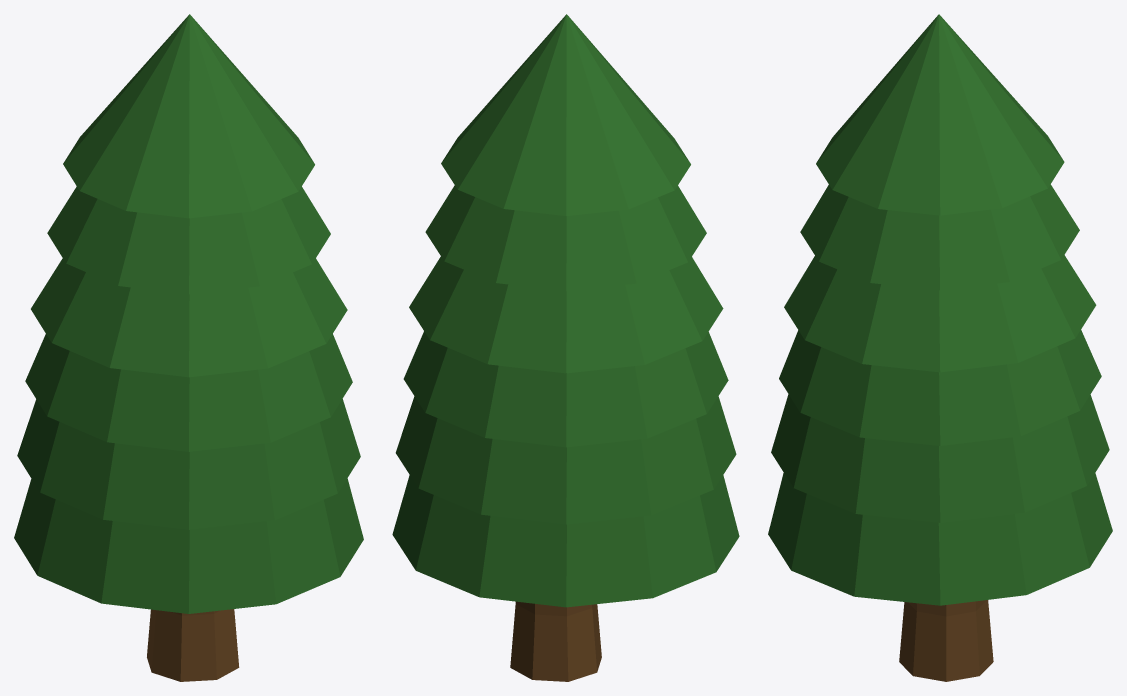
The model's file is free3d-tree-c.glb.
The picture shows the model from 3 angles, left to right: view 1: azimuth 30°, elevation 25°; view 2: azimuth 150°, elevation 25°; view 3: azimuth 270°, elevation 25°; orthographic projection.
Parts seen in each view (by area): view 1: Tree3.1; view 2: Tree3.1; view 3: Tree3.1.
Boxes of the visible parts, x1,y1,x2,y2 form: Tree3.1: (14,14,363,681); Tree3.1: (392,14,739,681); Tree3.1: (768,14,1112,681).
Bounding box in the file's own units: 2.53 × 5.2 × 2.52.
